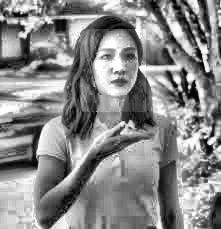sad: (81, 30, 147, 113)
